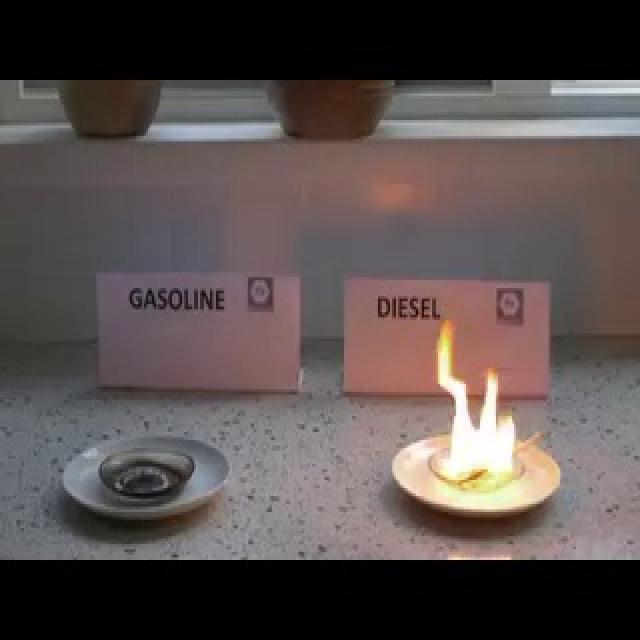Fire: (441, 340, 517, 488)
